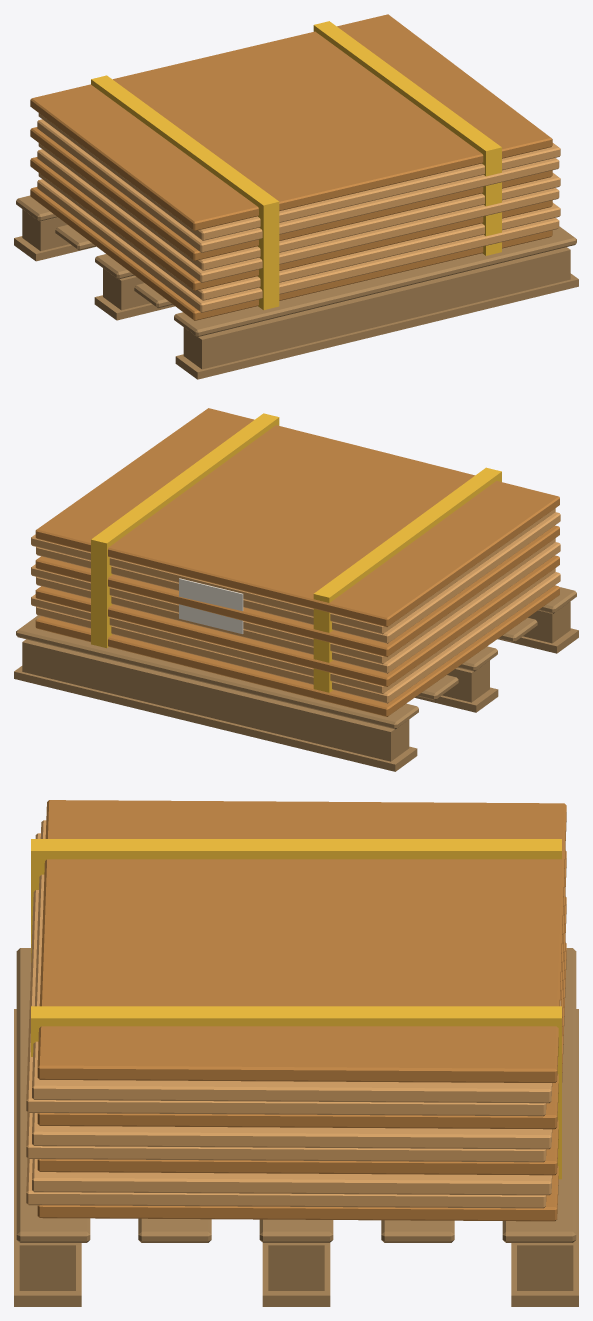
File: sm_env_depot_flat_cardboard_stack.glb
3 renders of one model, top to bottom at view 1: azimuth 30°, elevation 25°; view 2: azimuth 150°, elevation 25°; view 3: azimuth 270°, elevation 25°, orthographic. The views are drawn at different scales.
Parts seen in each view (by area): view 1: FlatCarton.009, PalletBlock.002, FlatCarton.001, FlatCarton.007, FlatCarton.004, PalletBoard.004, Strap, Strap.001, FlatCarton.002, FlatCarton.005, FlatCarton.008, FlatCarton.006 (+10 smaller); view 2: FlatCarton.009, PalletBlock, FlatCarton, FlatCarton.003, FlatCarton.006, Strap.001, PalletBoard, FlatCarton.001, Strap, FlatCarton.004, FlatCarton.007, PalletRunner (+10 smaller); view 3: FlatCarton.009, Strap.001, FlatCarton.008, Strap, FlatCarton.002, FlatCarton.005, FlatCarton.007, FlatCarton.006, FlatCarton, FlatCarton.003, FlatCarton.001, FlatCarton.004 (+12 smaller).
Part boxes in pixels (x1,y1,x2,y2): FlatCarton.009: (30,14,552,230); PalletBlock.002: (183,247,570,369); FlatCarton.001: (37,179,559,312); FlatCarton.007: (37,119,559,252); FlatCarton.004: (37,149,559,282); PalletBoard.004: (174,226,576,336); Strap: (91,75,279,310); Strap.001: (313,21,501,255); FlatCarton.002: (38,173,560,300); FlatCarton.005: (38,143,560,270); FlatCarton.008: (38,113,560,240); FlatCarton.006: (30,127,552,260); FlatCarton.009: (35,408,559,626); PalletBlock: (22,639,409,761); FlatCarton: (35,585,559,716); FlatCarton.003: (35,555,559,686); FlatCarton.006: (35,525,559,656); Strap.001: (91,413,279,648); PalletBoard: (16,615,418,729); FlatCarton.001: (36,572,560,703); Strap: (313,467,501,699); FlatCarton.004: (36,542,560,673); FlatCarton.007: (36,512,560,643); PalletRunner: (14,666,417,771); FlatCarton.009: (37,800,566,1082); Strap.001: (31,1006,561,1179); FlatCarton.008: (32,820,552,1103); Strap: (31,839,561,962); FlatCarton.002: (32,1159,552,1195); FlatCarton.005: (32,1113,552,1149); FlatCarton.007: (26,833,546,1116); FlatCarton.006: (37,850,566,1129); FlatCarton: (37,942,566,1221); FlatCarton.003: (37,896,566,1175); FlatCarton.001: (26,1158,546,1208); FlatCarton.004: (26,1112,546,1162).
Bounding box in the file's own units: 1.2 × 0.459 × 1.
